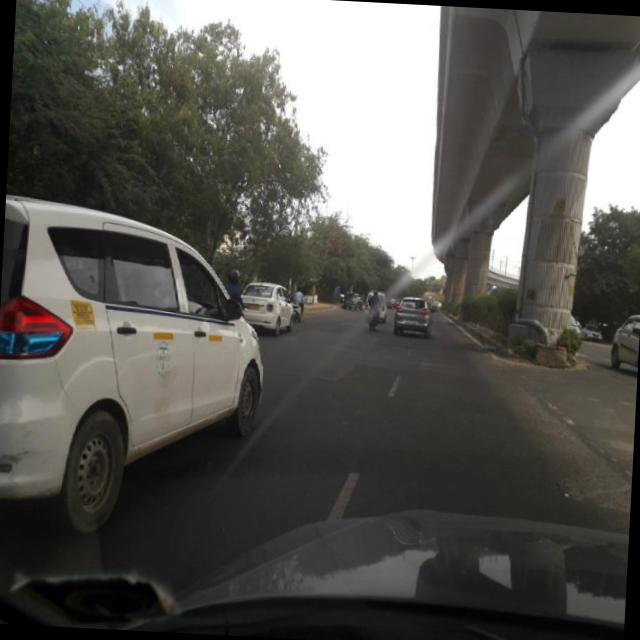crack: (270, 372, 548, 489)
